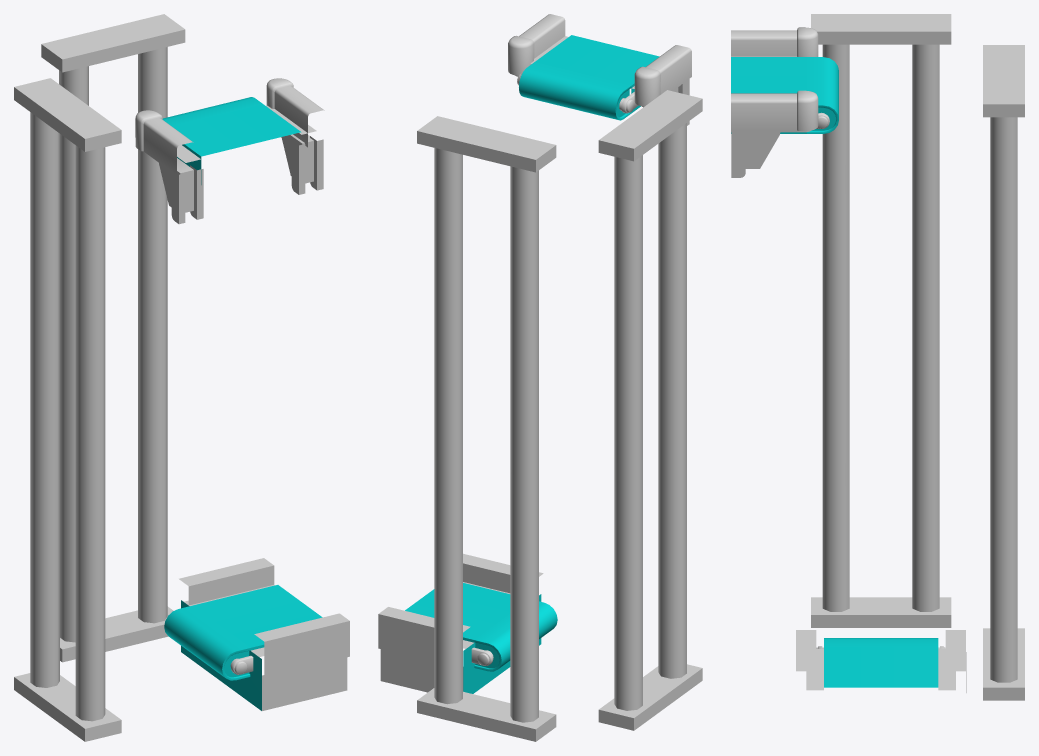
Rendered from Lift2UpLeftInternalVariant.gltf.
3 views of the same model, side by side, from view 1: azimuth 30°, elevation 25°; view 2: azimuth 150°, elevation 25°; view 3: azimuth 270°, elevation 25° (orthographic). The views are drawn at different scales.
Parts seen in each view (by area): view 1: Lift_2UpLeft_Layer0_LOD0; view 2: Lift_2UpLeft_Layer0_LOD0; view 3: Lift_2UpLeft_Layer0_LOD0.
Part boxes in pixels (x1=…): Lift_2UpLeft_Layer0_LOD0: x1=14, y1=14, x2=349, y2=741; Lift_2UpLeft_Layer0_LOD0: x1=378, y1=14, x2=702, y2=741; Lift_2UpLeft_Layer0_LOD0: x1=731, y1=14, x2=1024, y2=700.
Size of the model in its own units: 0.9812 by 2.27 by 0.9812.
